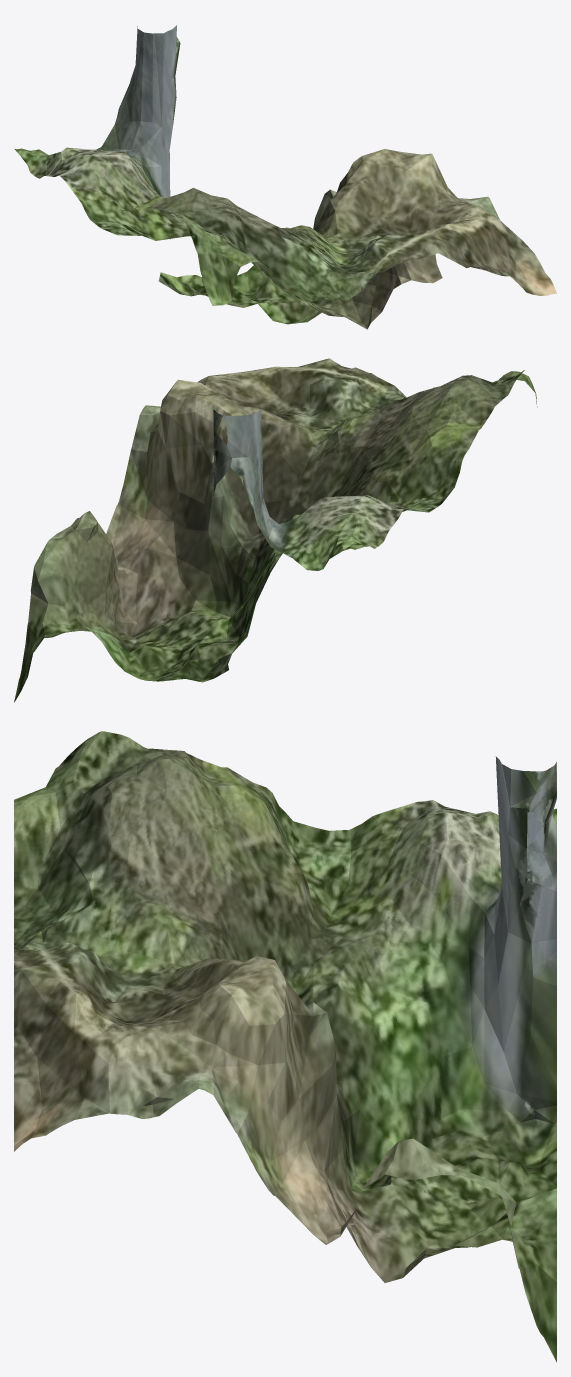
3 renders of one model, top to bottom at view 1: azimuth 30°, elevation 25°; view 2: azimuth 150°, elevation 25°; view 3: azimuth 270°, elevation 25°, orthographic. The views are drawn at different scales.
Size of the model in its own units: 2.95 by 2.77 by 2.95.
4 materials, 4 textured.
